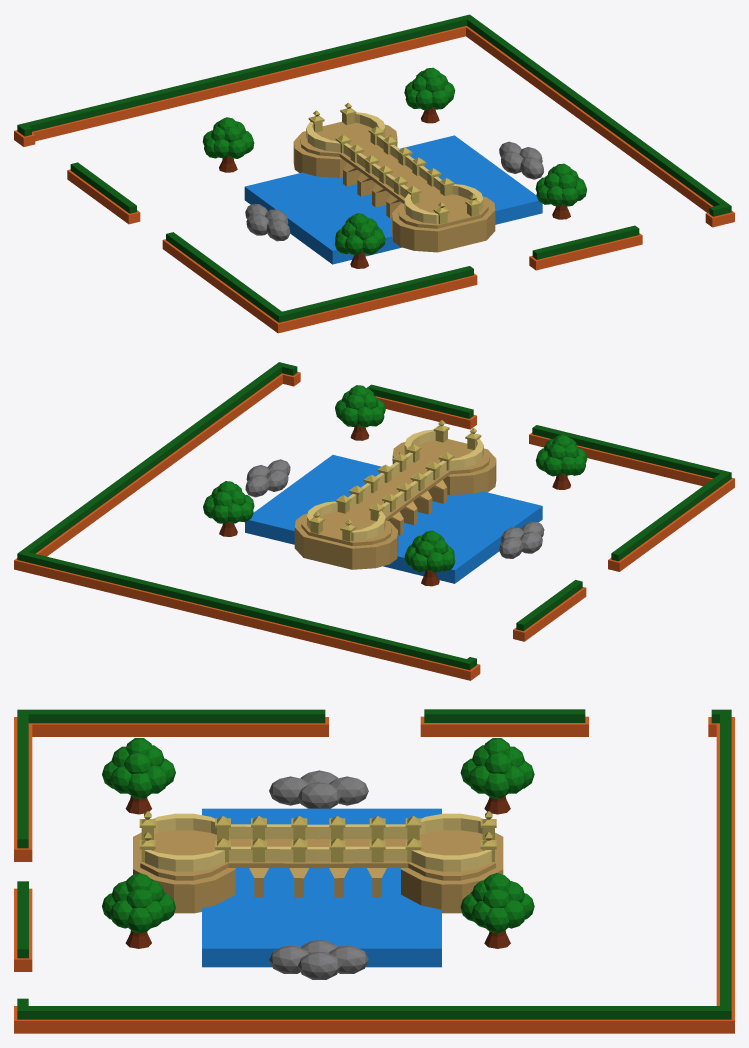
File: Common-Bridge-Model.glb
The picture shows the model from 3 angles, top to bottom: view 1: azimuth 30°, elevation 25°; view 2: azimuth 150°, elevation 25°; view 3: azimuth 270°, elevation 25°; orthographic projection. The views are drawn at different scales.
Parts seen in each view (by area): view 1: Cube.1152, Cube.1077, Cube.1153, Cube.1078, Cube.959, Cube.999, Cube.998, Cube.1158, Cylinder.131, Icosphere.108, Icosphere.105, Cube.1160 (+10 smaller); view 2: Cube.1152, Cube.1077, Cube.1153, Cube.1078, Cube.959, Cube.999, Cube.998, Cube.1158, Cylinder.131, Icosphere.109, Icosphere.105, Cube.1160 (+10 smaller); view 3: Cube.1077, Cube.1152, Cube.1153, Cube.1078, Cube.998, Cube.959, Cube.999, Icosphere.108, Icosphere.109, Icosphere.105, Cylinder.131, Cube.1155 (+17 smaller).
Part boxes in pixels (<box>): Cube.1152: <box>293,112,495,252</box>; Cube.1077: <box>244,14,734,227</box>; Cube.1153: <box>244,135,542,264</box>; Cube.1078: <box>162,232,477,333</box>; Cube.959: <box>14,69,248,146</box>; Cube.999: <box>529,225,642,270</box>; Cube.998: <box>67,162,140,224</box>; Cube.1158: <box>308,102,481,224</box>; Cylinder.131: <box>219,107,570,268</box>; Icosphere.108: <box>266,156,543,241</box>; Icosphere.105: <box>217,67,572,228</box>; Cube.1160: <box>335,126,454,203</box>; Cube.1152: <box>294,429,496,569</box>; Cube.1077: <box>14,362,300,624</box>; Cube.1153: <box>245,455,542,583</box>; Cube.1078: <box>529,425,734,571</box>; Cube.959: <box>242,606,480,680</box>; Cube.999: <box>367,384,476,429</box>; Cube.998: <box>513,580,586,641</box>; Cube.1158: <box>308,420,481,541</box>; Cylinder.131: <box>219,425,570,586</box>; Icosphere.109: <box>245,474,522,558</box>; Icosphere.105: <box>217,385,572,545</box>; Cube.1160: <box>335,444,454,521</box>; Cube.1077: <box>14,860,734,1033</box>; Cube.1152: <box>133,813,503,913</box>; Cube.1153: <box>202,808,441,967</box>; Cube.1078: <box>14,709,328,861</box>; Cube.998: <box>420,709,588,736</box>; Cube.959: <box>708,709,734,868</box>; Cube.999: <box>14,881,32,971</box>; Icosphere.108: <box>269,776,308,973</box>; Icosphere.109: <box>329,776,368,973</box>; Icosphere.105: <box>126,738,510,892</box>; Cylinder.131: <box>125,796,510,948</box>; Cube.1155: <box>291,816,345,862</box>.
Bounding box in the file's own units: 32.23 × 4.48 × 32.27.
